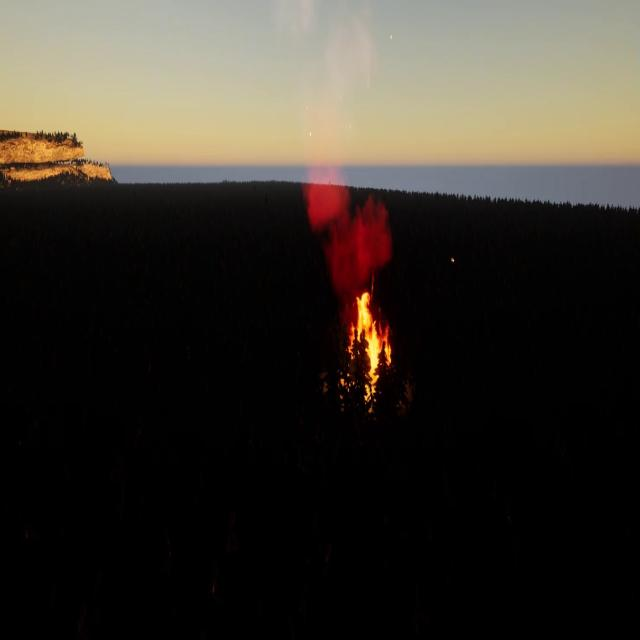fire: (346, 290, 404, 401)
smoke: (304, 138, 386, 292)
